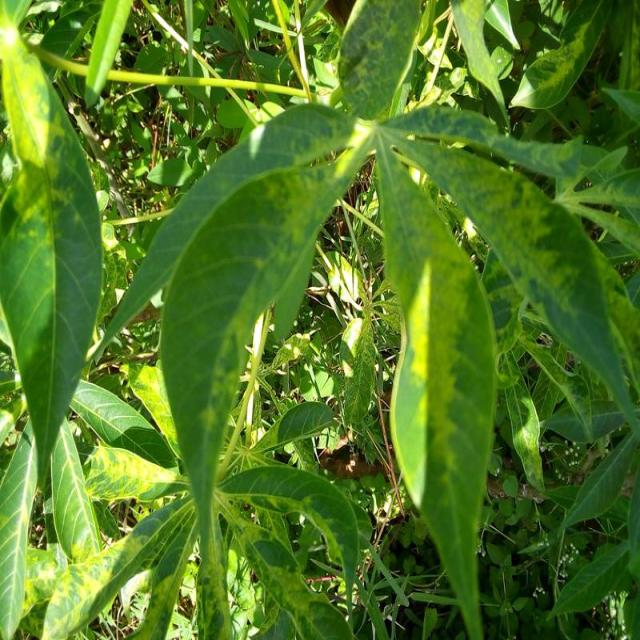cassava leaf: (1, 1, 638, 638), (374, 123, 498, 638), (0, 2, 103, 492)
